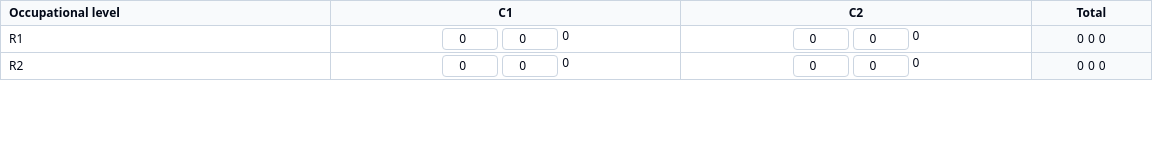
Test case: MatrixGrid rem-breakdown computed total › total is always fixed+variable and updates live without being editable
The image size is (1152, 160).
Replace the text in the 1st number field with "100" at coordinates (470, 39), box left=442, top=28, right=498, bottom=50
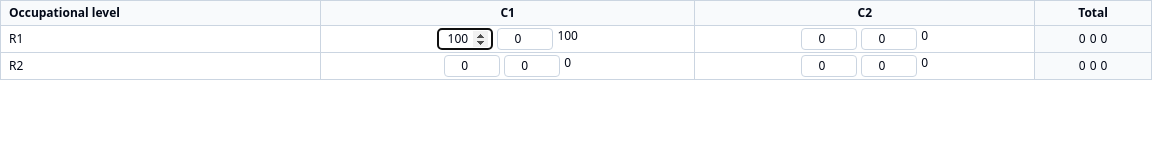
Replace the text in the 2nd number field with "25" at coordinates (525, 39), box left=497, top=28, right=553, bottom=50
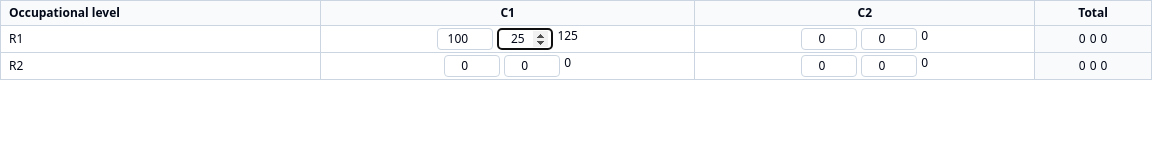
Expected: the text with test id "matrix-cell-total" reads "125", left=557, top=27, right=578, bottom=44
